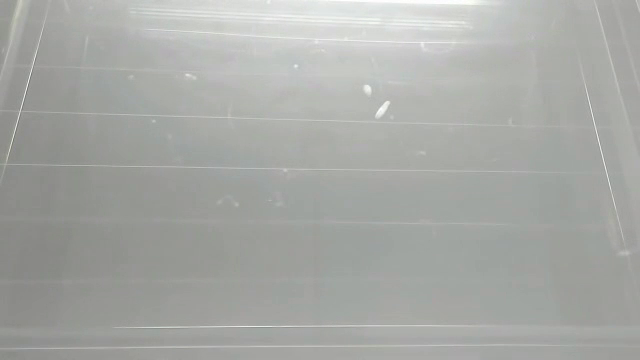alpha: (373, 99, 393, 122), (359, 79, 376, 100)
